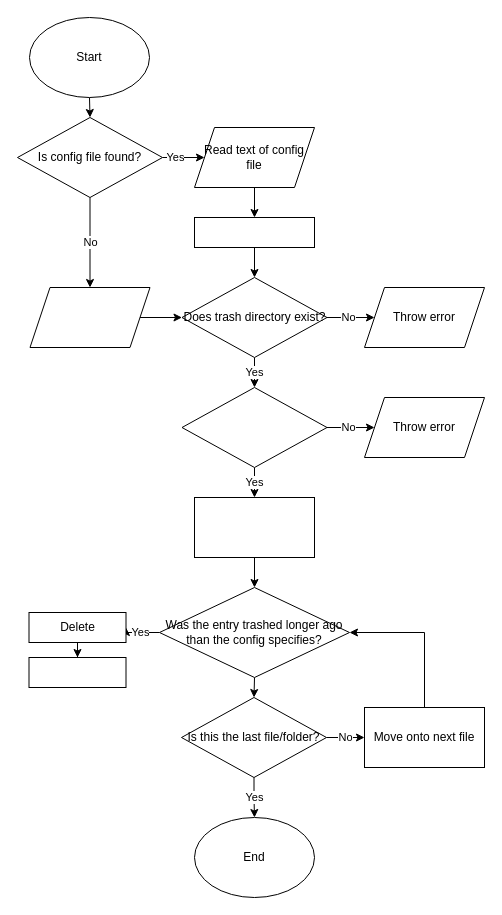
This 502x915 diagram has some shape labels left out. Each missing label, with the centre of its shape:
Does trash info directory exist?: the point at 254,427
Match each trash info file to its file/folder: the point at 254,527
Parse configuration: the point at 254,232
Print deletion: the point at 77,672
Use default config and create configuration file: the point at 89,317
